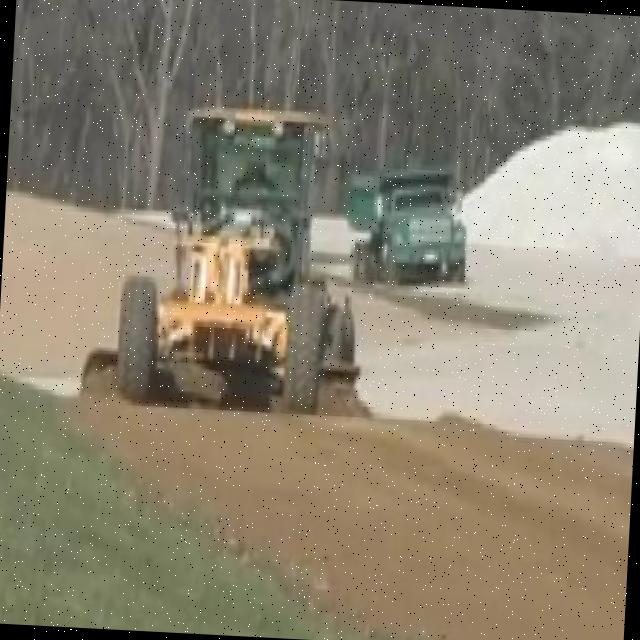Dump Truck: (339, 161, 466, 285)
Grader: (80, 94, 373, 415)
